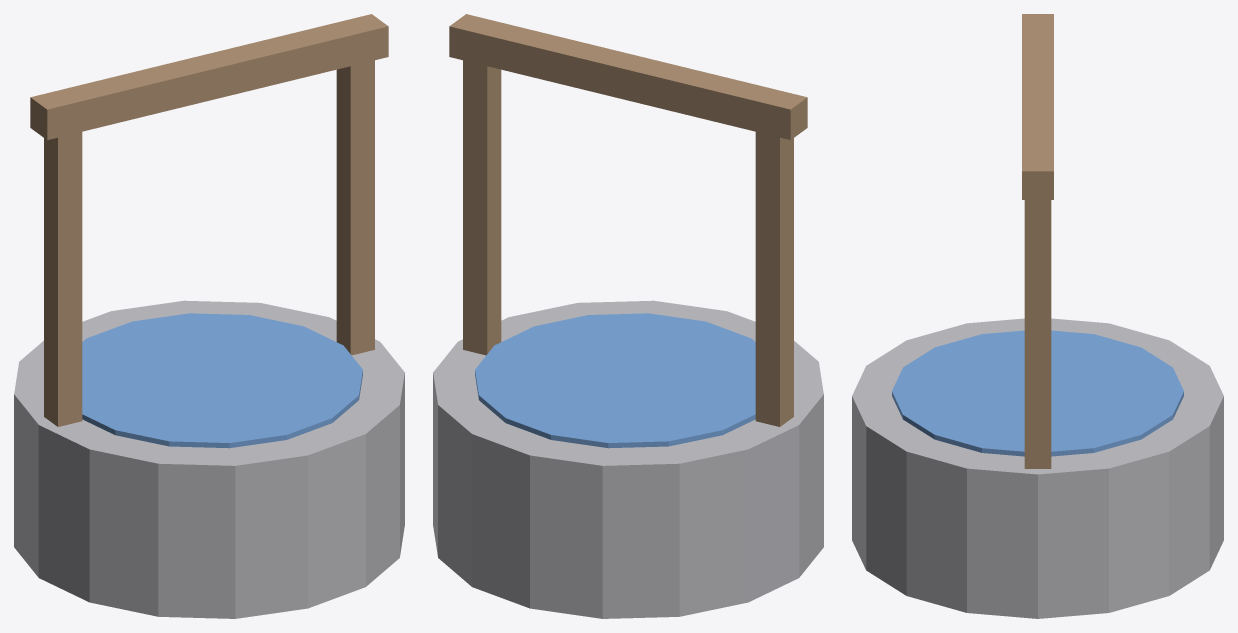
Rendered from well.glb.
3 renders of one model, left to right at view 1: azimuth 30°, elevation 25°; view 2: azimuth 150°, elevation 25°; view 3: azimuth 270°, elevation 25°, orthographic. The views are drawn at different scales.
Parts seen in each view (by area): view 1: well; view 2: well; view 3: well.
Boxes of the visible parts, x1,y1,x2,y2 form: well: [14, 14, 404, 618]; well: [433, 14, 823, 618]; well: [852, 14, 1223, 618].
Size of the model in its own units: 1.4 by 1.86 by 1.4.
